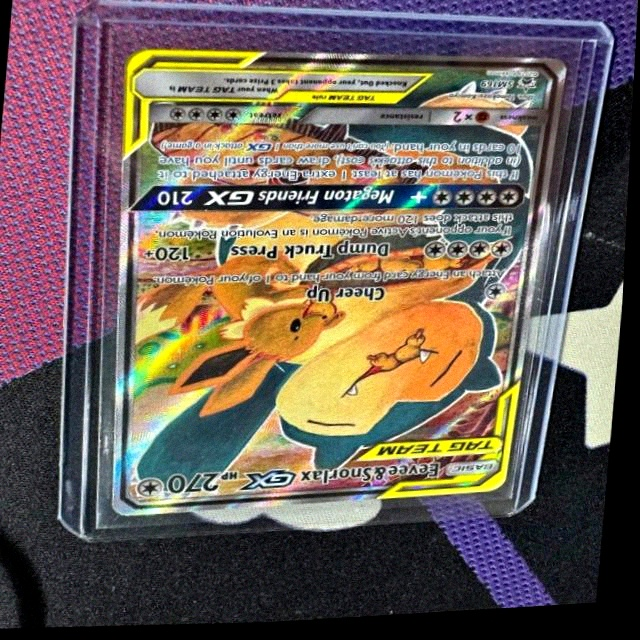card: (115, 49, 567, 518)
